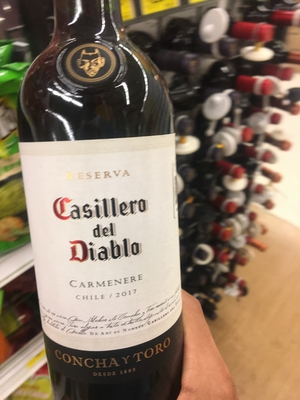casillero del diablo carmenere: (12, 1, 196, 400)
